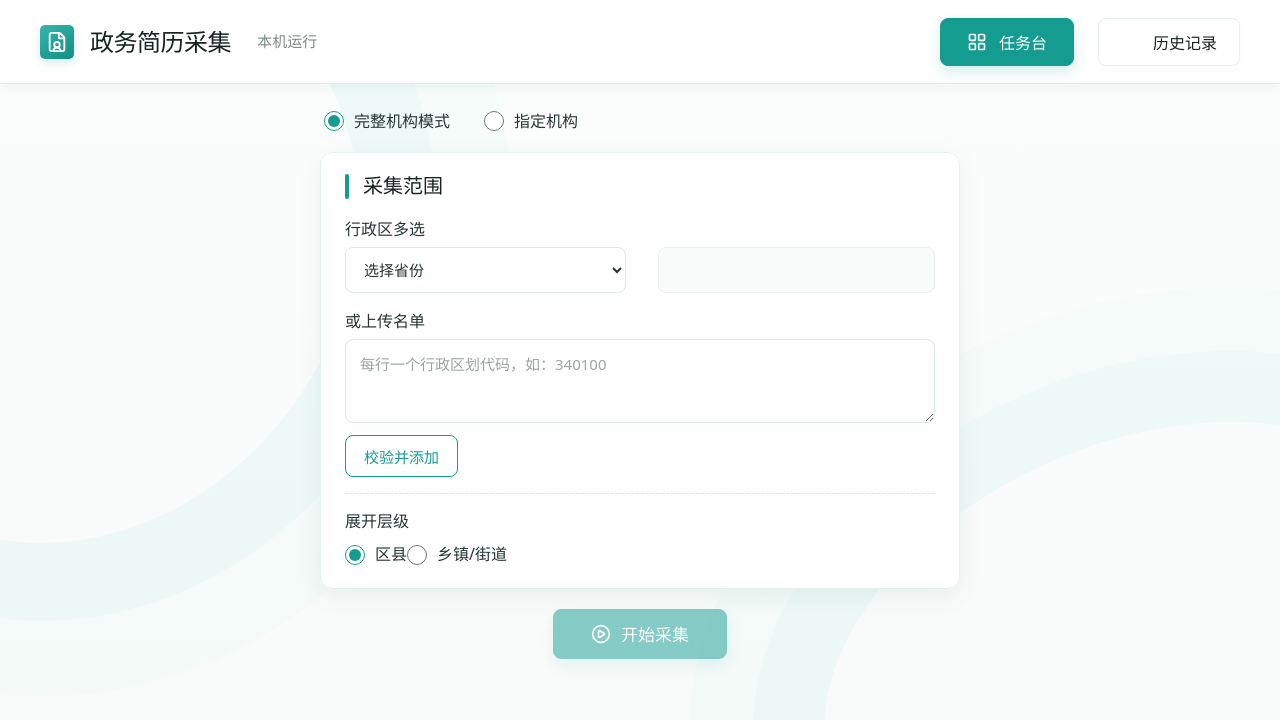
网页工作台 › 点击查看证据打开抽屉
Click the radio button labelled "指定机构": (494,121) [484, 111, 504, 131]
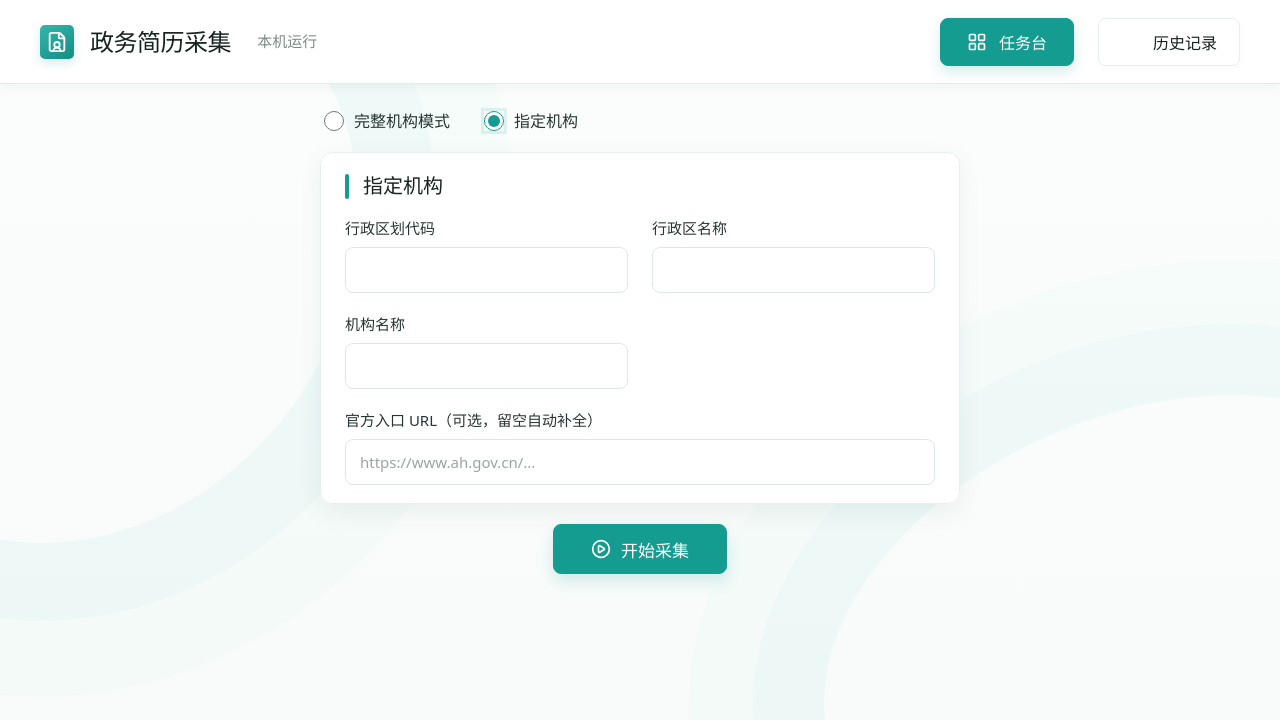
In the field labelled "行政区划代码": (486,270) [345, 247, 628, 293], type "110000"
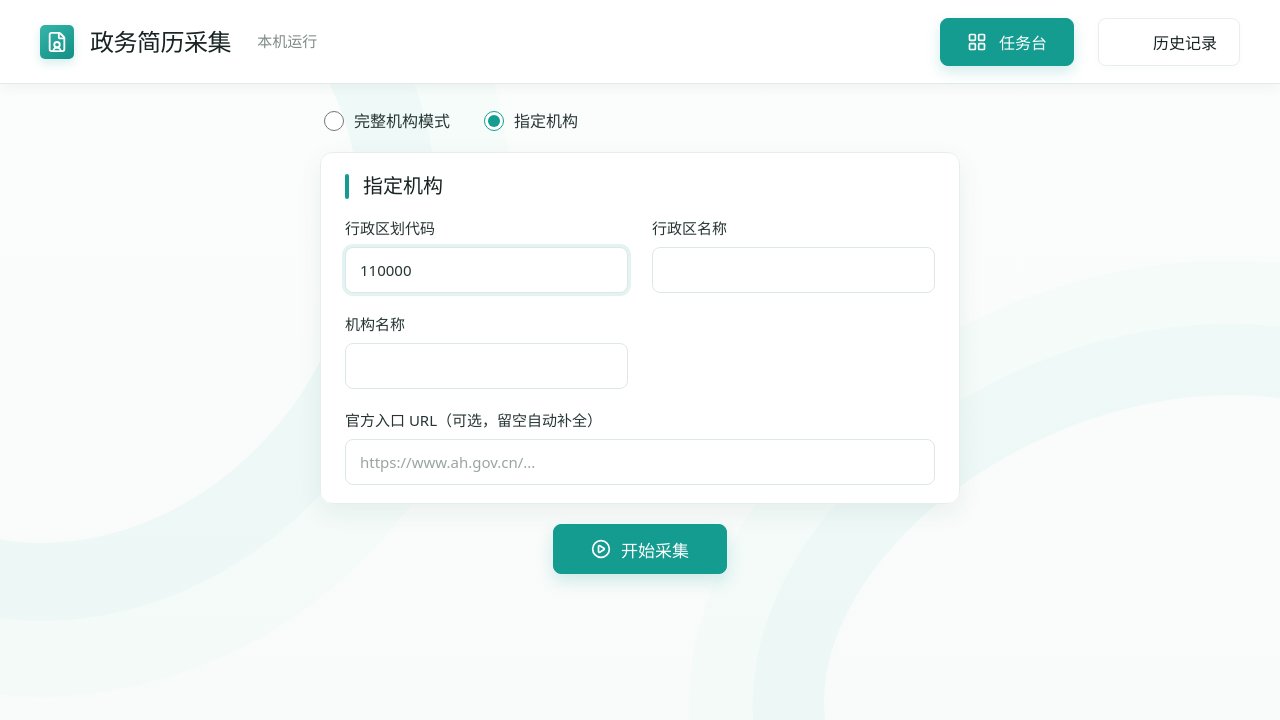
In the field labelled "行政区名称": (794,270) [652, 247, 935, 293], type "北京市"
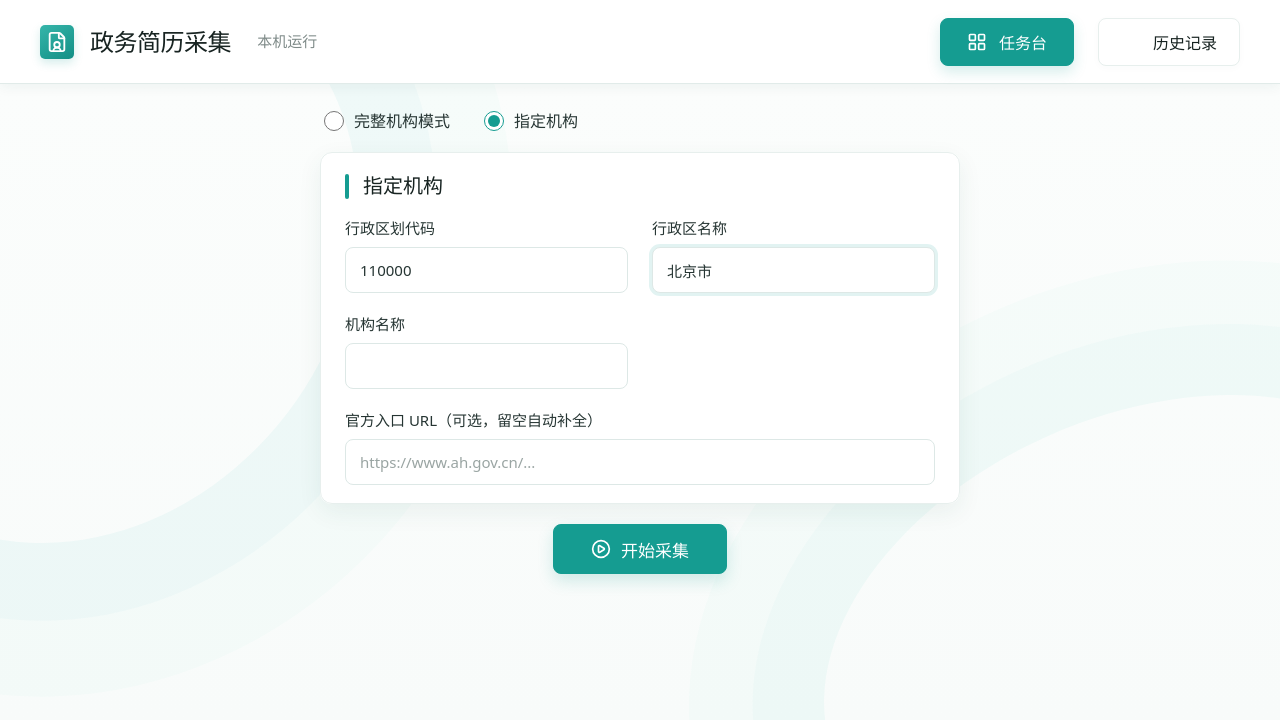
In the field labelled "机构名称": (486,366) [345, 343, 628, 389], type "某某区人民政府"
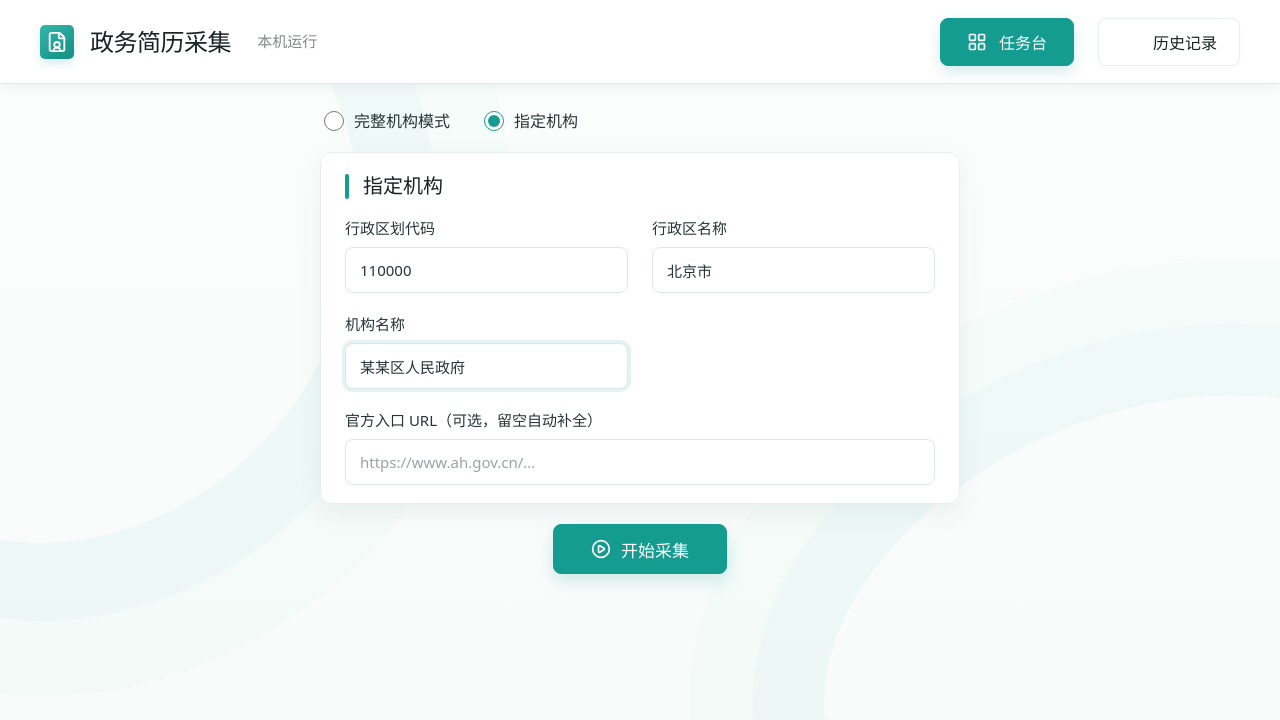
Click the button "开始采集": (640,549) [553, 524, 727, 574]
(page scrolled)
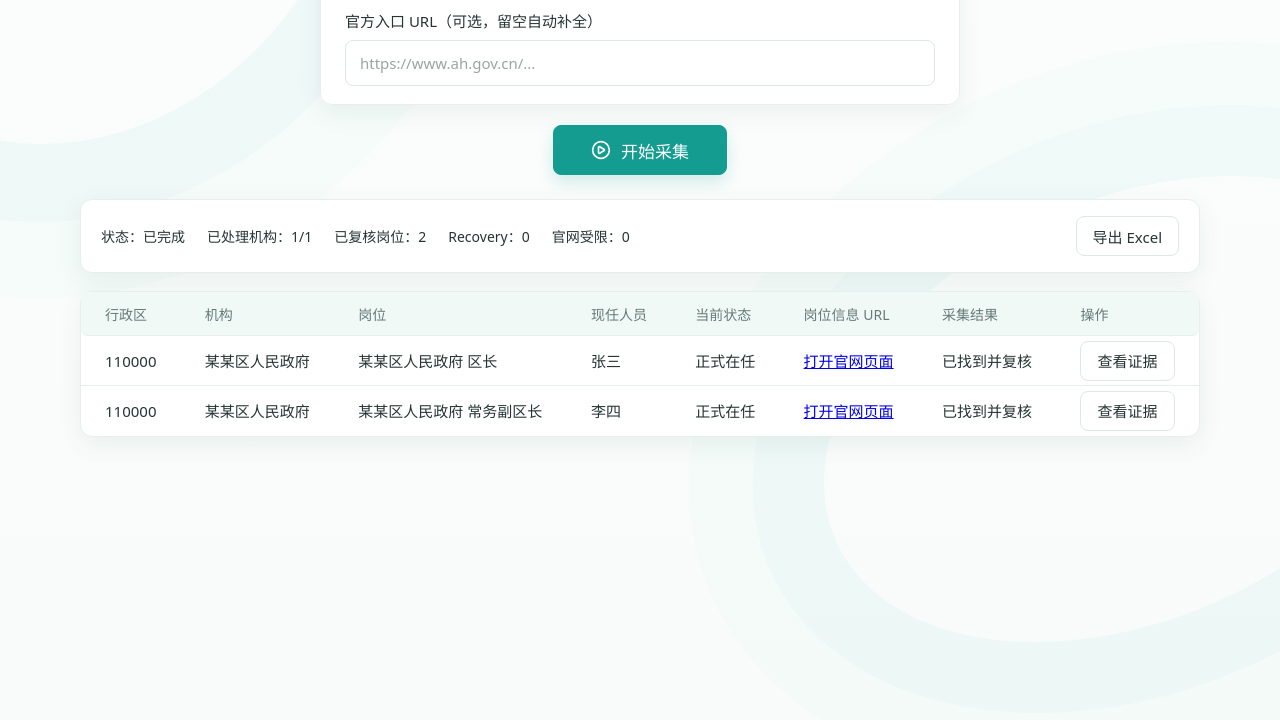
Now the text "张三" is shown, box [567, 336, 671, 386]
Click the button "查看证据" in the row of "某某区人民政府 区长": (1128,361) [1080, 341, 1174, 381]
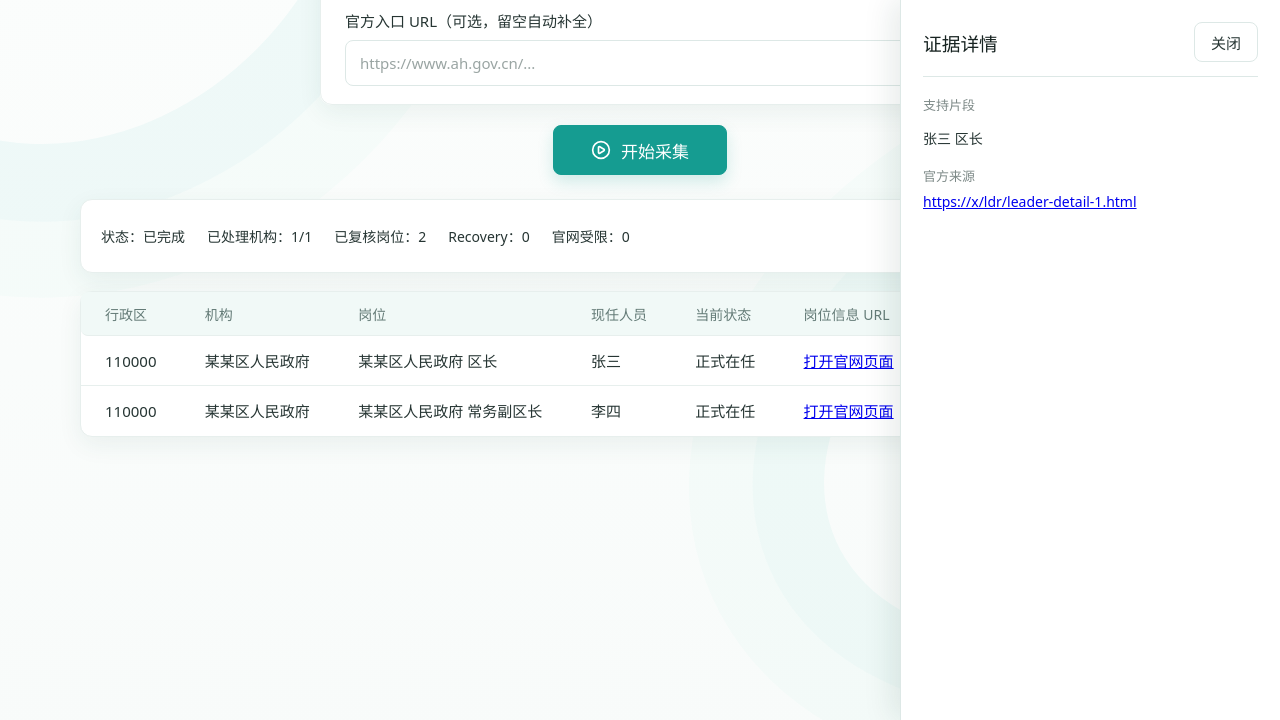
Now the text "张三 区长" is shown, box [923, 129, 983, 148]
